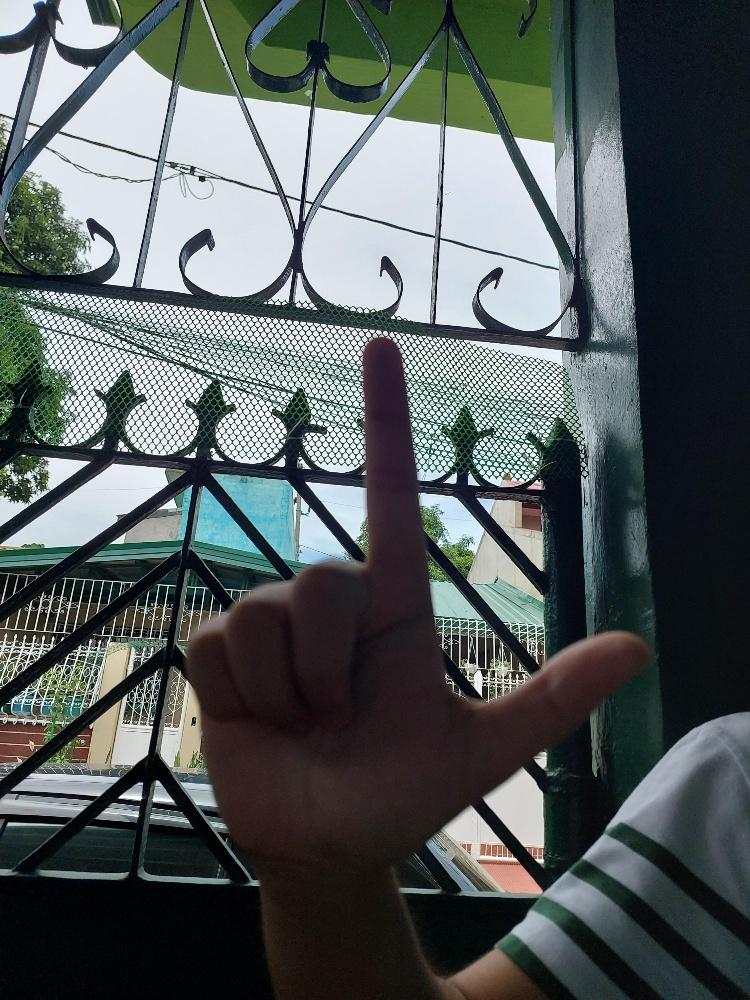l: (182, 329, 657, 894)
